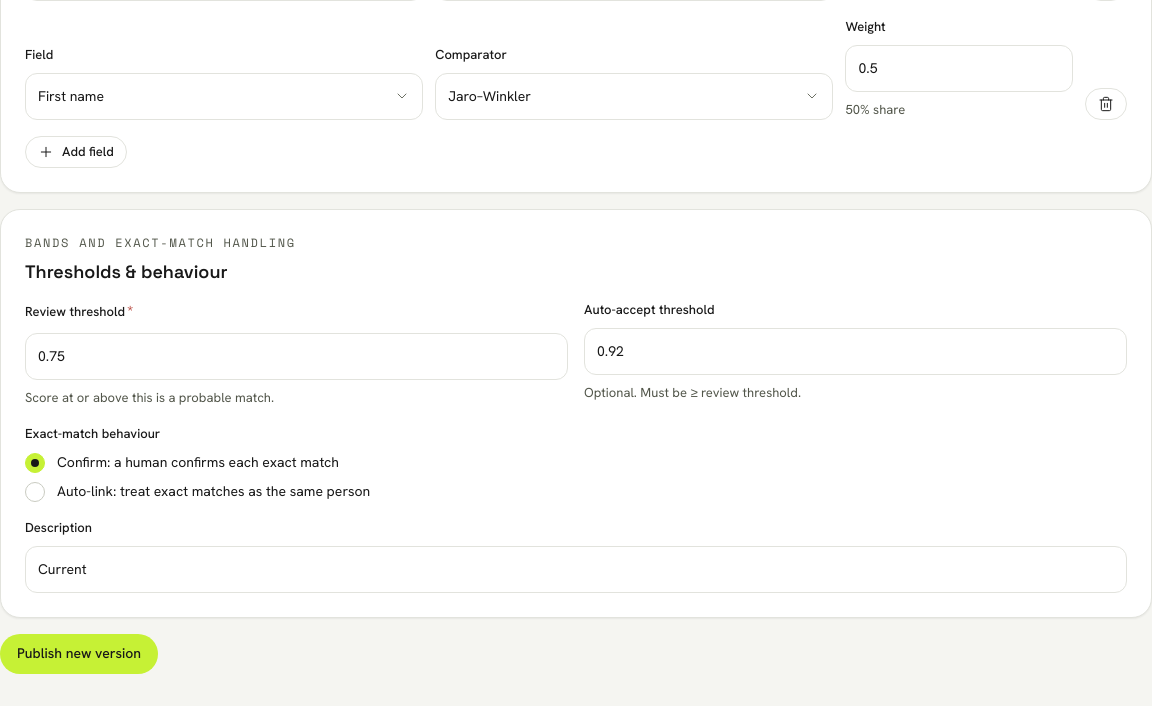
Test case: Admin console — Matching Rules & Registry Config (composes Phase 3) › publishes through the existing endpoint, creating a new audited version
(page scrolled)
Click the button "Publish new version" at (79, 654), box x1=0 y1=634 x2=158 y2=674
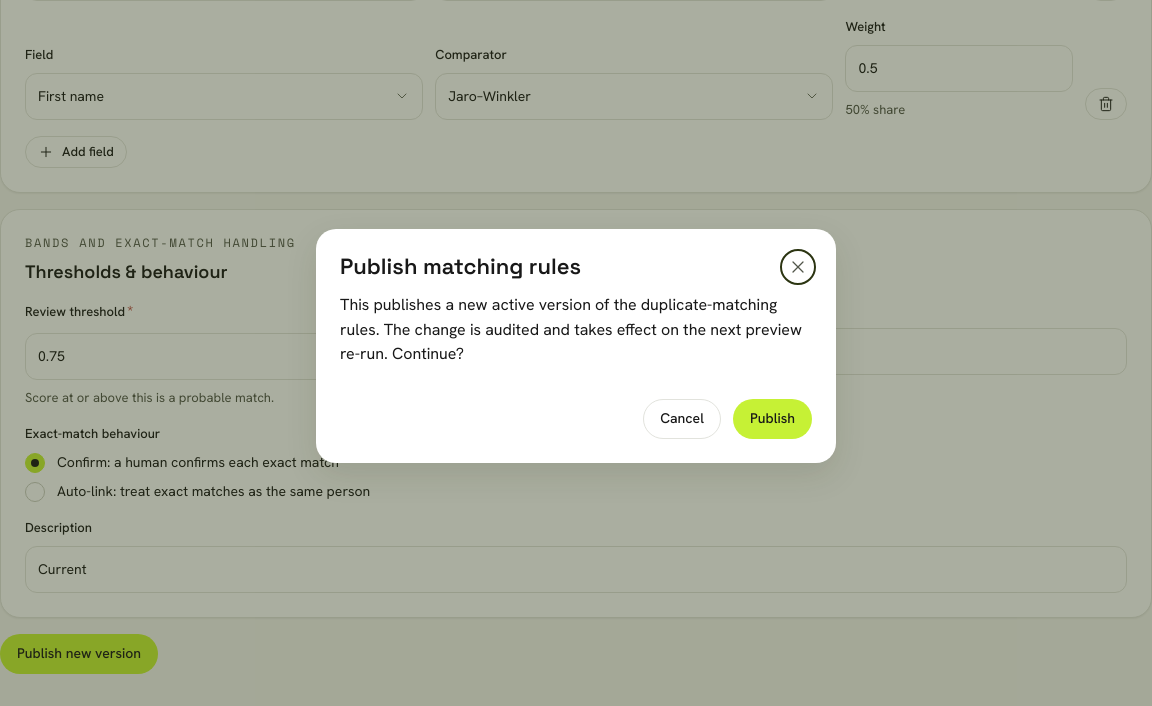
Expected: the text "publishes a new active version" is shown, x1=340 y1=294 x2=802 y2=364
